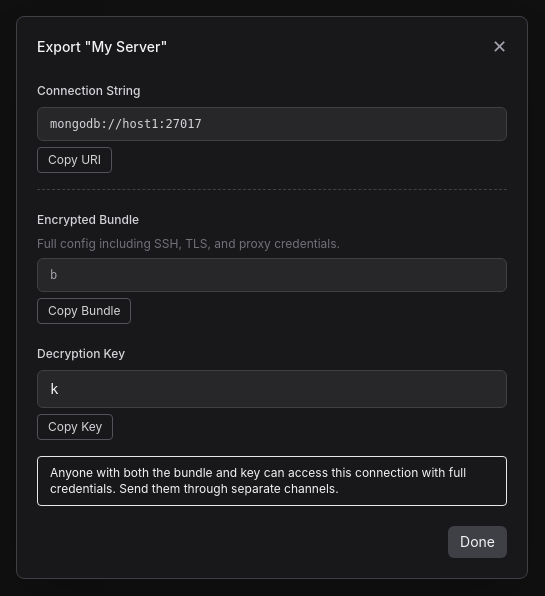
Test case: ConnectionShareOverlay — export mode › copies URI to clipboard and shows feedback
Click the button "Copy URI" at [75, 160], box left=37, top=146, right=112, bottom=172
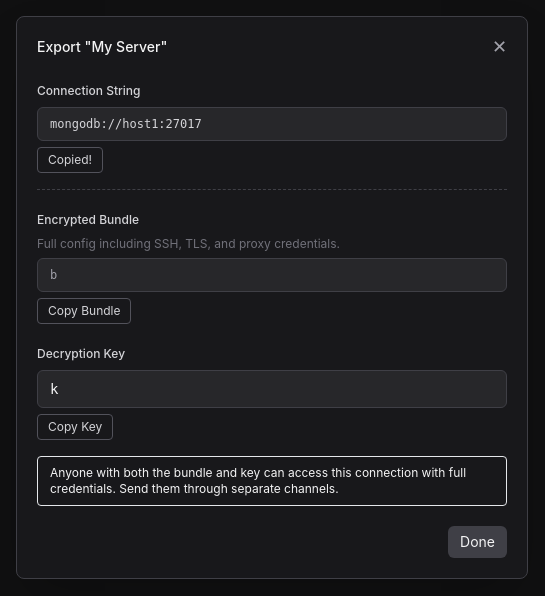
expect the button "Copied!" is shown: met, box left=37, top=146, right=103, bottom=172
